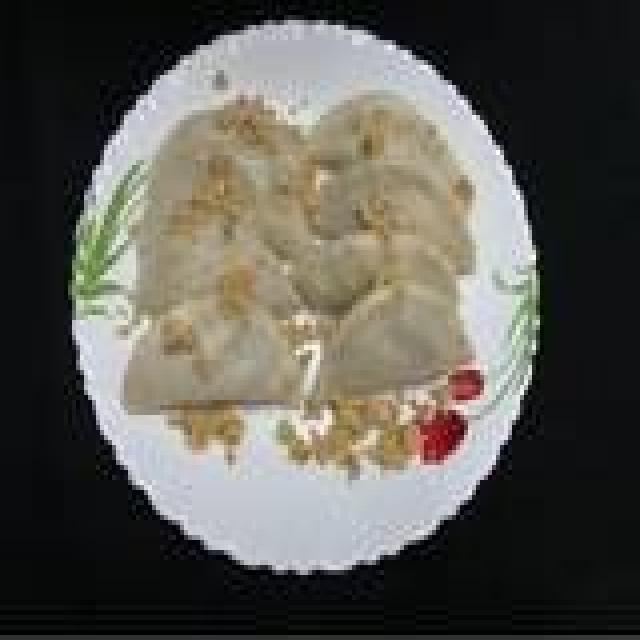poorna kolukattai: (115, 101, 491, 439)
